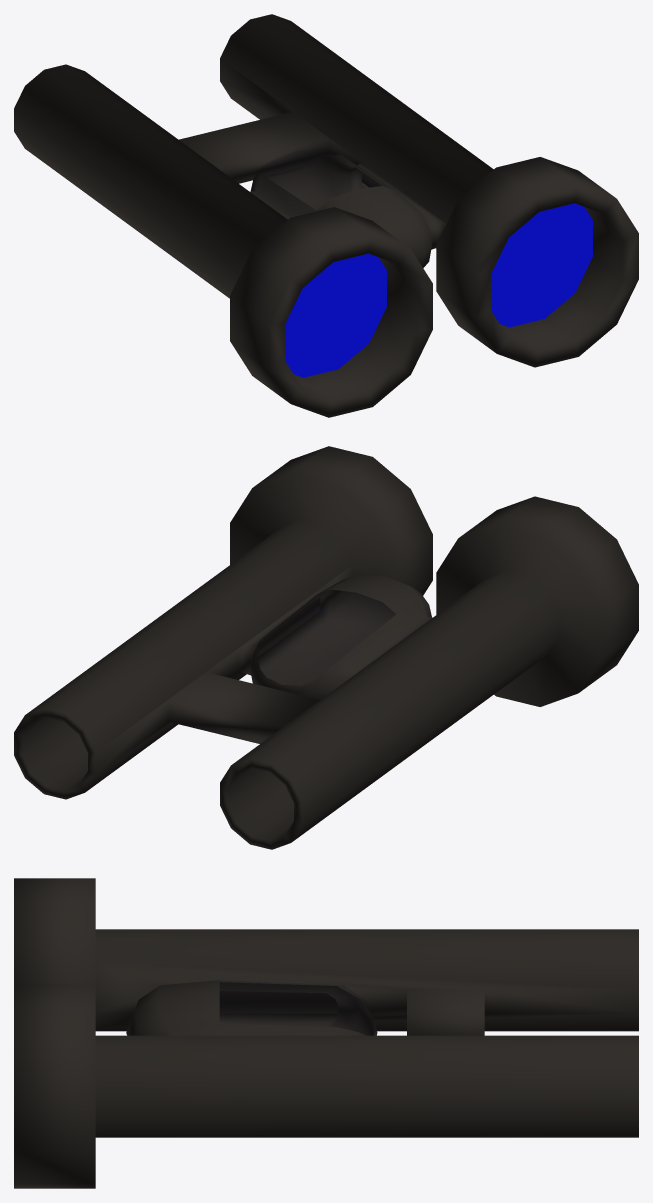
File: MSFV3LowerPoly.obj
3 views of the same model, one above another, from view 1: azimuth 30°, elevation 25°; view 2: azimuth 150°, elevation 25°; view 3: azimuth 270°, elevation 25° (orthographic). The views are drawn at different scales.
Parts seen in each view (by area): view 1: Cylinder.001; view 2: Cylinder.001; view 3: Cylinder.001.
Part boxes in pixels (x1,y1,x2,y2): Cylinder.001: [14, 14, 638, 417]; Cylinder.001: [14, 446, 638, 849]; Cylinder.001: [14, 878, 638, 1188].
Bounding box in the file's own units: 7.19 × 3.19 × 9.95.
